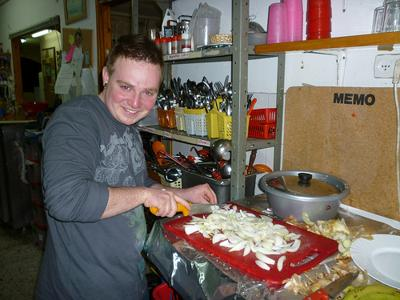person: (36, 33, 218, 300)
